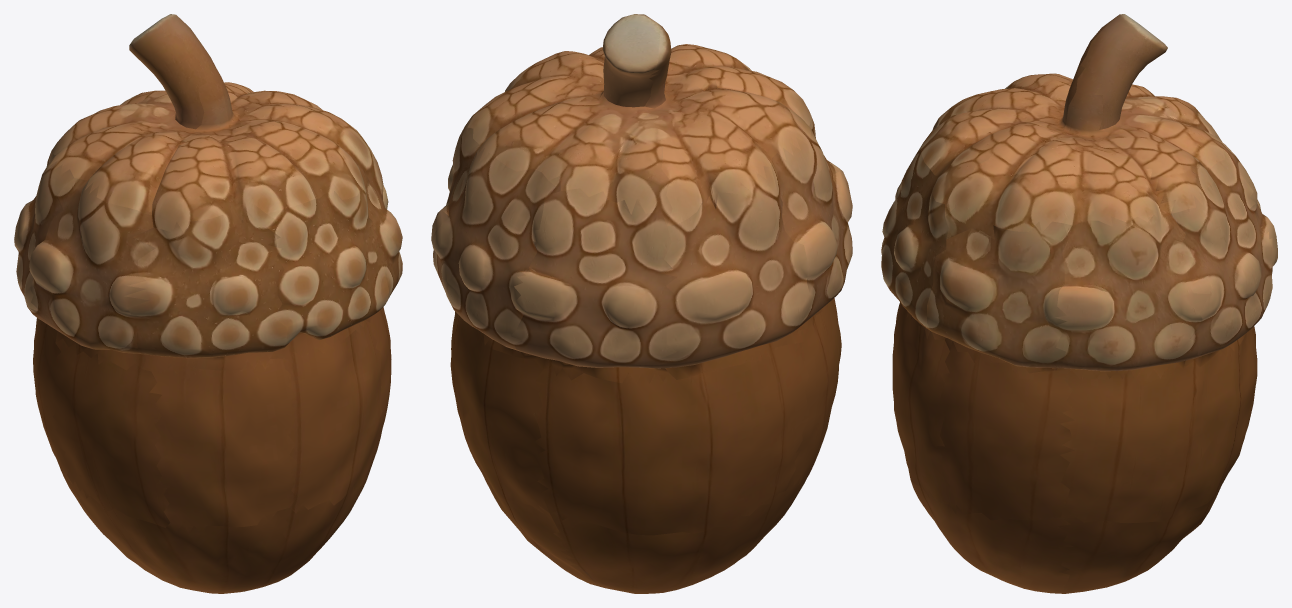
Rendered from s1_gen_acorn_key.glb.
3 views of the same model, side by side, from view 1: azimuth 30°, elevation 25°; view 2: azimuth 150°, elevation 25°; view 3: azimuth 270°, elevation 25° (orthographic). The views are drawn at different scales.
Bounding box in the file's own units: 1.22 × 1.91 × 1.22.
1 material, 1 textured.
